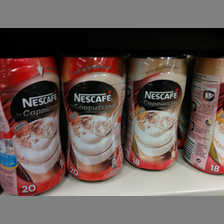coffee: (1, 54, 65, 196), (60, 53, 128, 182), (125, 56, 188, 172), (183, 58, 224, 175)
